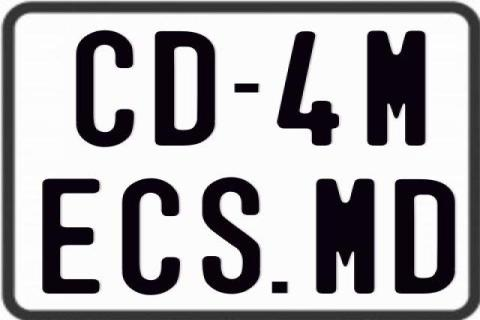0: (277, 30, 341, 148)
C: (119, 176, 183, 297), (74, 30, 138, 150)
D: (152, 29, 217, 147), (394, 178, 458, 296)
E: (42, 177, 106, 293)
M: (365, 28, 426, 144), (316, 179, 374, 297)
S: (200, 177, 260, 297)
